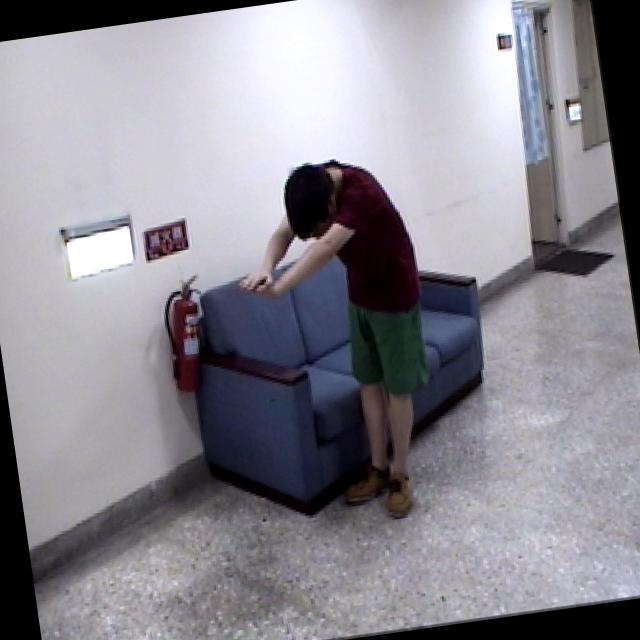bend: (218, 142, 462, 554)
